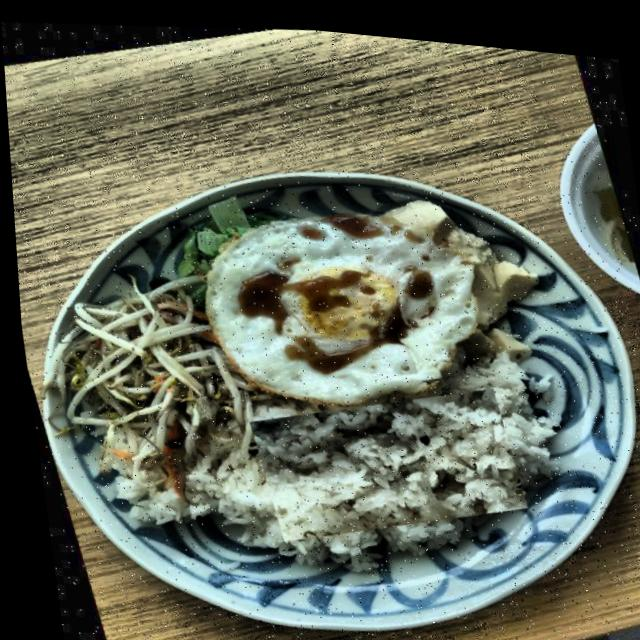Food: (195, 177, 482, 418), (236, 357, 527, 557), (61, 295, 227, 443)
